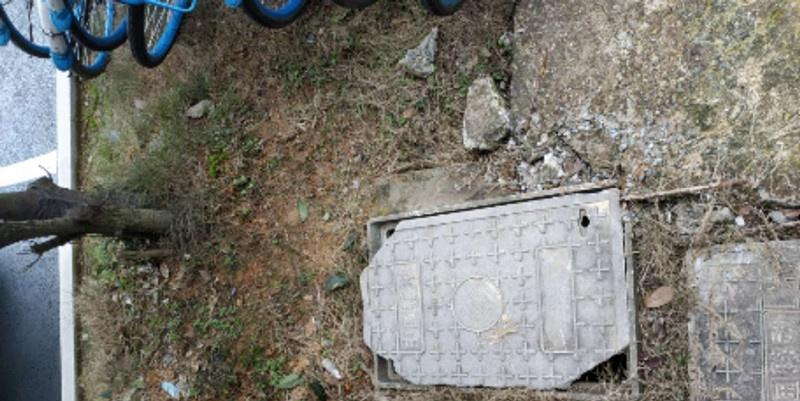wellcover: (355, 183, 658, 401)
